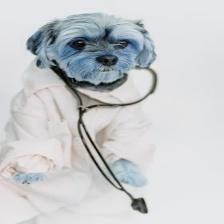kedo: (5, 4, 27, 13)
